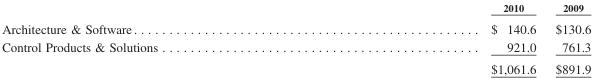table: (1, 0, 590, 75)
table column: (1, 0, 323, 75), (323, 0, 545, 75), (545, 0, 590, 75)
table column header: (1, 0, 590, 16)
table row: (1, 16, 590, 37), (1, 37, 590, 57), (1, 57, 590, 75), (1, 0, 590, 16)
